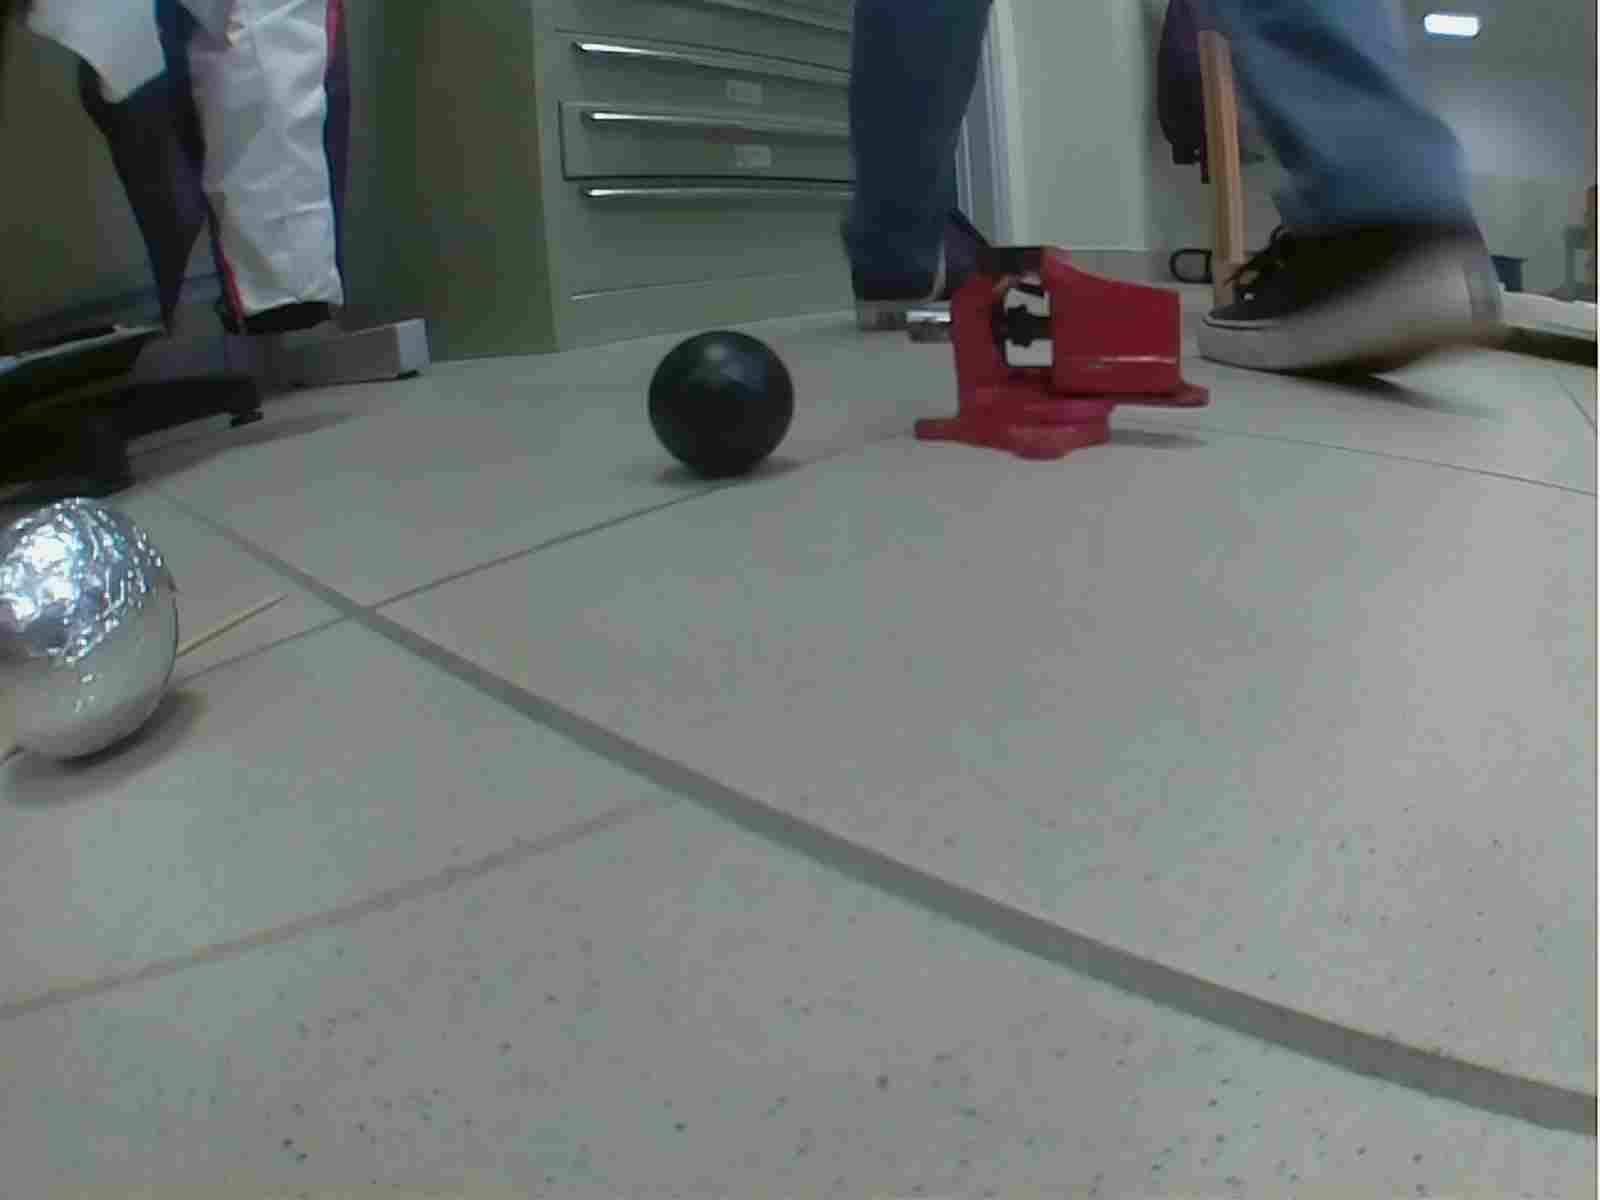bianca: (1, 493, 181, 771)
nera: (645, 324, 797, 482)
